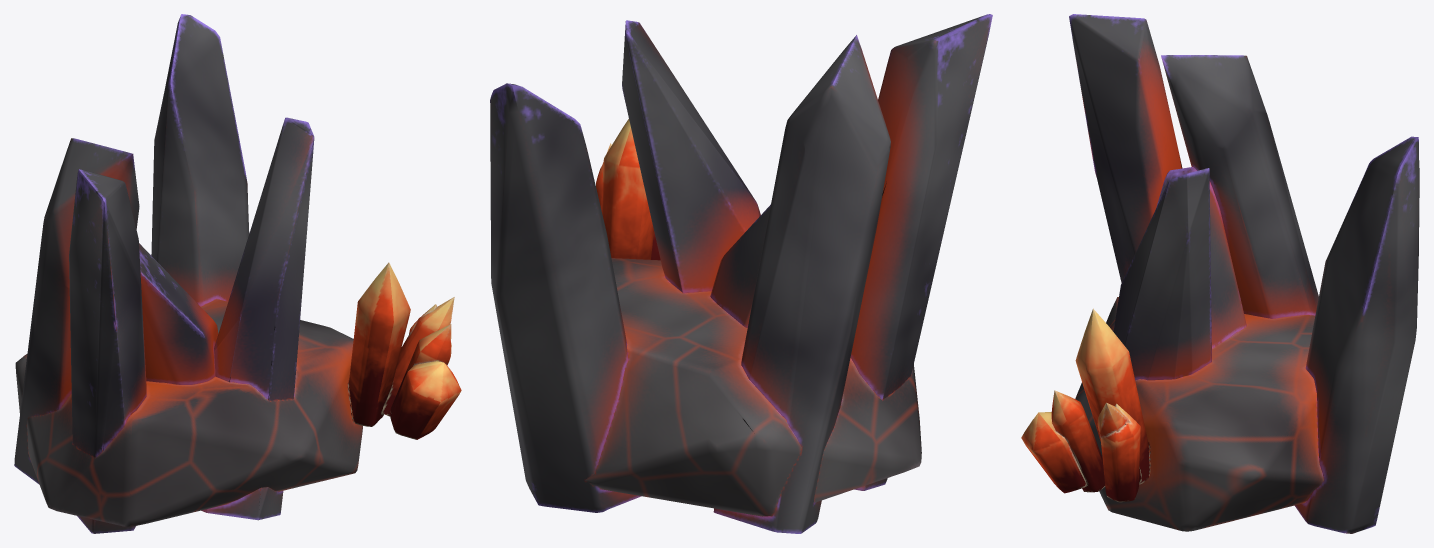
Rendered from Volcan_Eclats.fbx.
3 renders of one model, left to right at view 1: azimuth 30°, elevation 25°; view 2: azimuth 150°, elevation 25°; view 3: azimuth 270°, elevation 25°, orthographic. The views are drawn at different scales.
Visible parts, largest first — view 1: Volcan_Eclats; view 2: Volcan_Eclats; view 3: Volcan_Eclats.
Boxes of the visible parts, x1,y1,x2,y2 form: Volcan_Eclats: [14, 14, 461, 533]; Volcan_Eclats: [490, 14, 992, 533]; Volcan_Eclats: [1021, 14, 1419, 533].
Size of the model in its own units: 827 by 823 by 756.
Materials: 1 (1 with a texture image).
